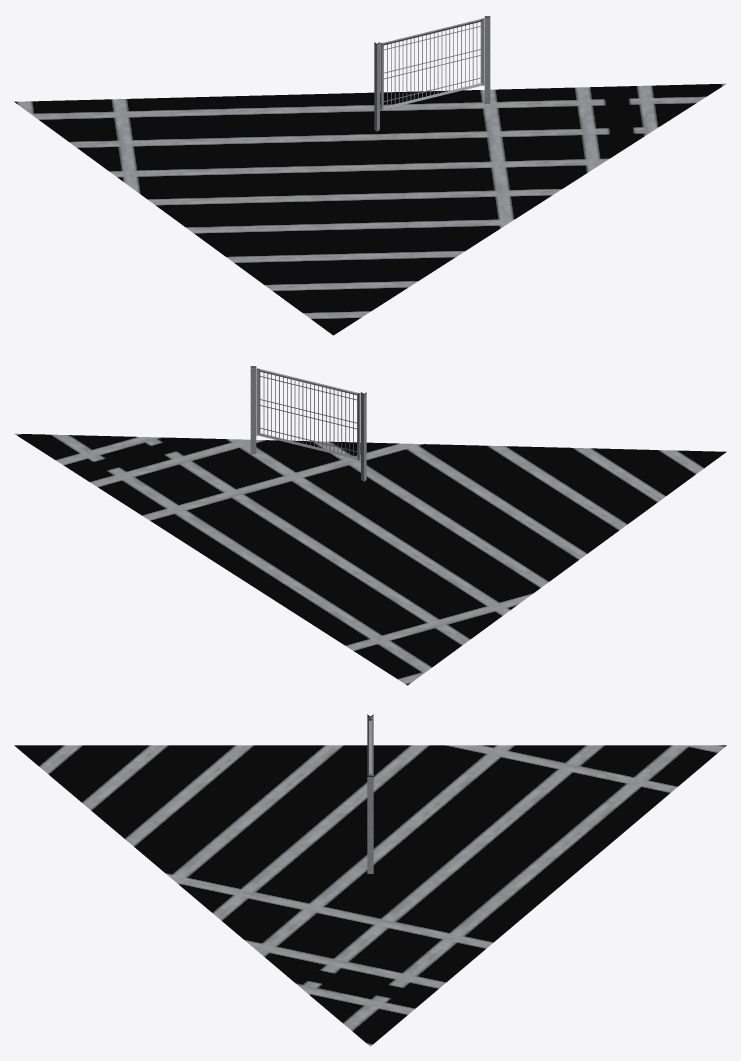
File: fence-mesh-grey-gate-2m-cbj_LOD02.gltf
3 views of the same model, one above another, from view 1: azimuth 30°, elevation 25°; view 2: azimuth 150°, elevation 25°; view 3: azimuth 270°, elevation 25° (orthographic). The views are drawn at different scales.
Parts seen in each view (by area): view 1: post.004; view 2: post.004; view 3: post.004.
Boxes of the visible parts, box(x1,y1,x2,y2) form: post.004: box(14, 16, 726, 335); post.004: box(14, 366, 726, 685); post.004: box(14, 714, 726, 1046).
Size of the model in its own units: 10.56 by 2.31 by 10.56.
